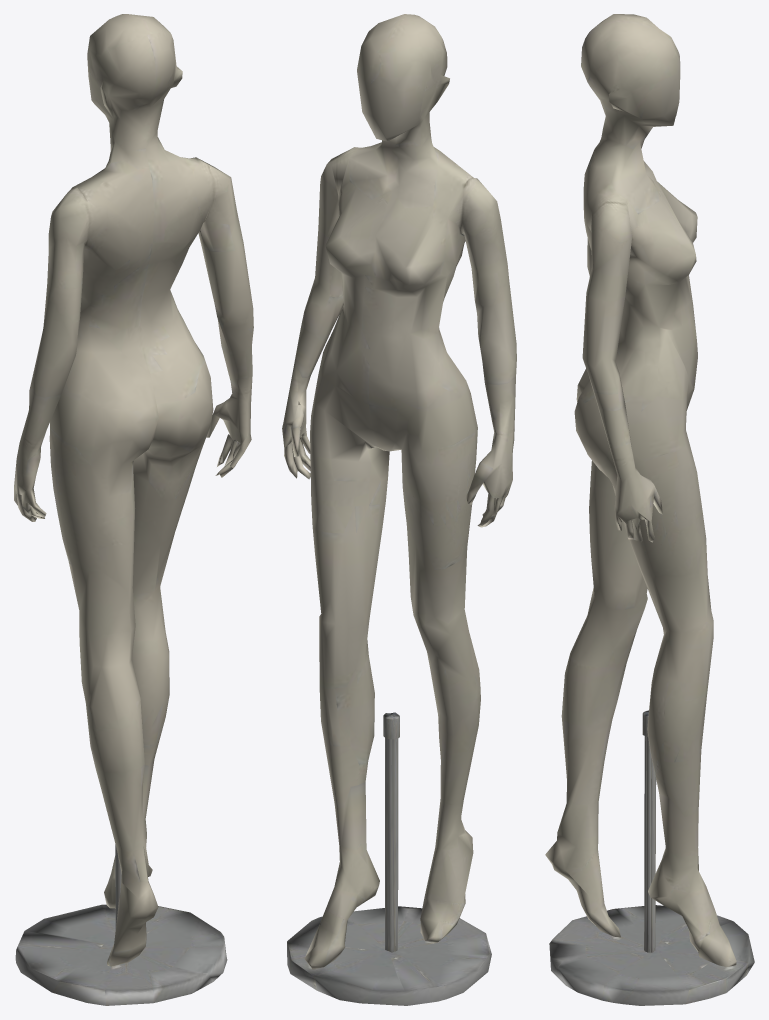
Rendered from mall-mannequin-female.glb.
The picture shows the model from 3 angles, left to right: view 1: azimuth 30°, elevation 25°; view 2: azimuth 150°, elevation 25°; view 3: azimuth 270°, elevation 25°; orthographic projection. The views are drawn at different scales.
Parts seen in each view (by area): view 1: mannequin-female; view 2: mannequin-female; view 3: mannequin-female.
Part boxes in pixels (bbox=[...]): mannequin-female: bbox=[14, 14, 253, 1005]; mannequin-female: bbox=[282, 14, 516, 1005]; mannequin-female: bbox=[545, 14, 754, 1005].
Bounding box in the file's own units: 0.4368 × 1.75 × 0.3523.
1 material, 1 textured.
